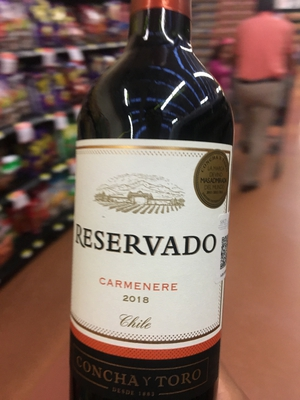reservado carmenere: (67, 2, 240, 400)
